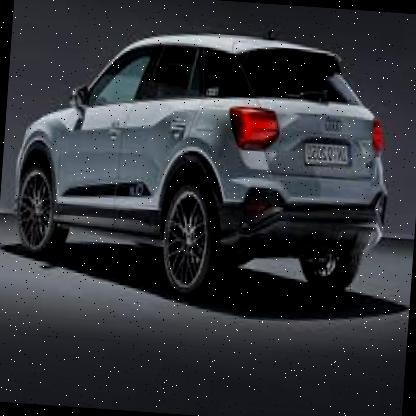car: (0, 14, 409, 314)
